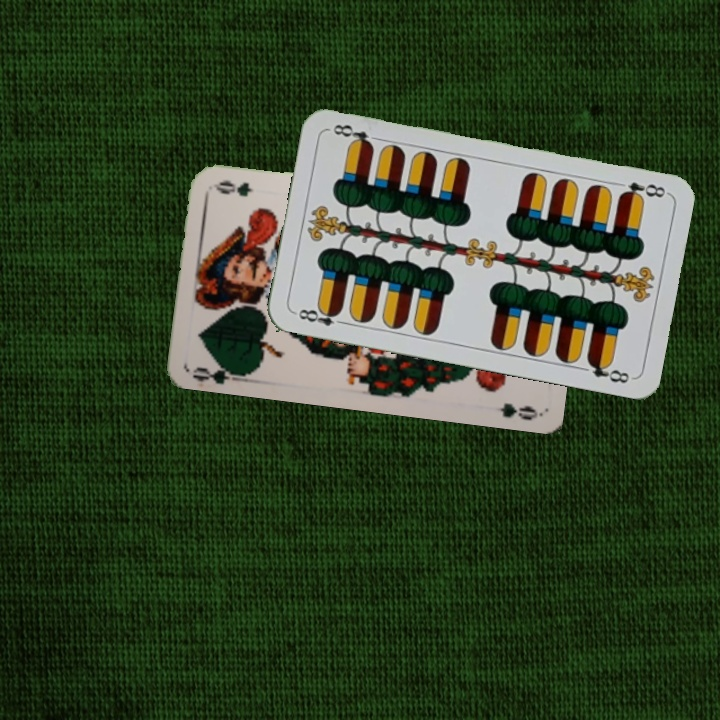E8: (291, 303, 350, 329), (616, 178, 668, 203)
GO: (190, 357, 250, 385)
